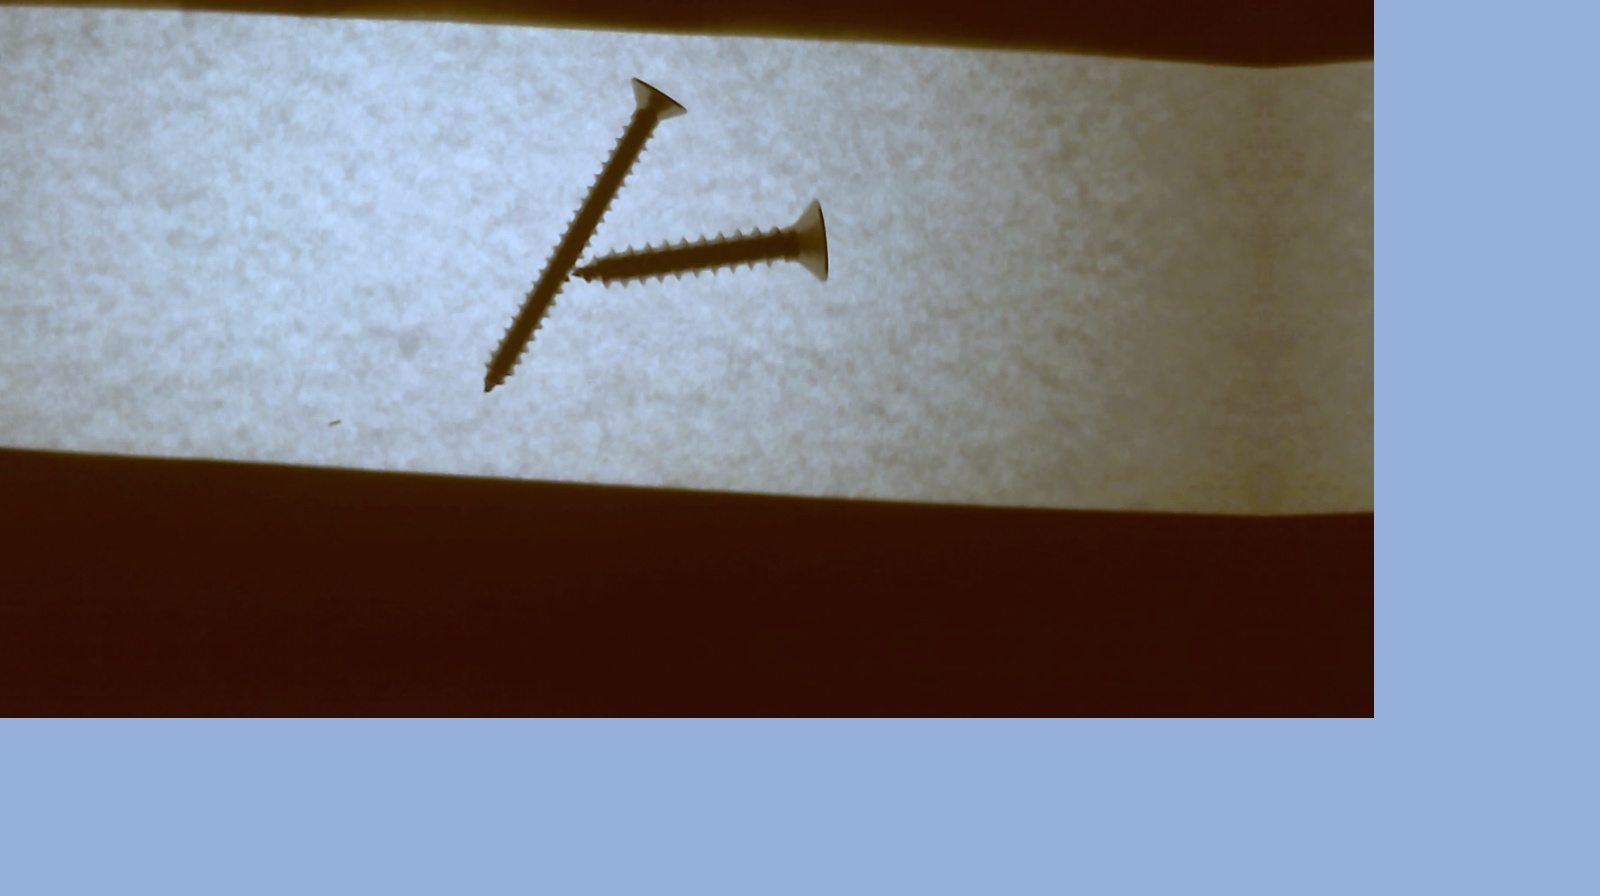S001: (560, 188, 837, 290)
S002: (462, 68, 696, 406)
